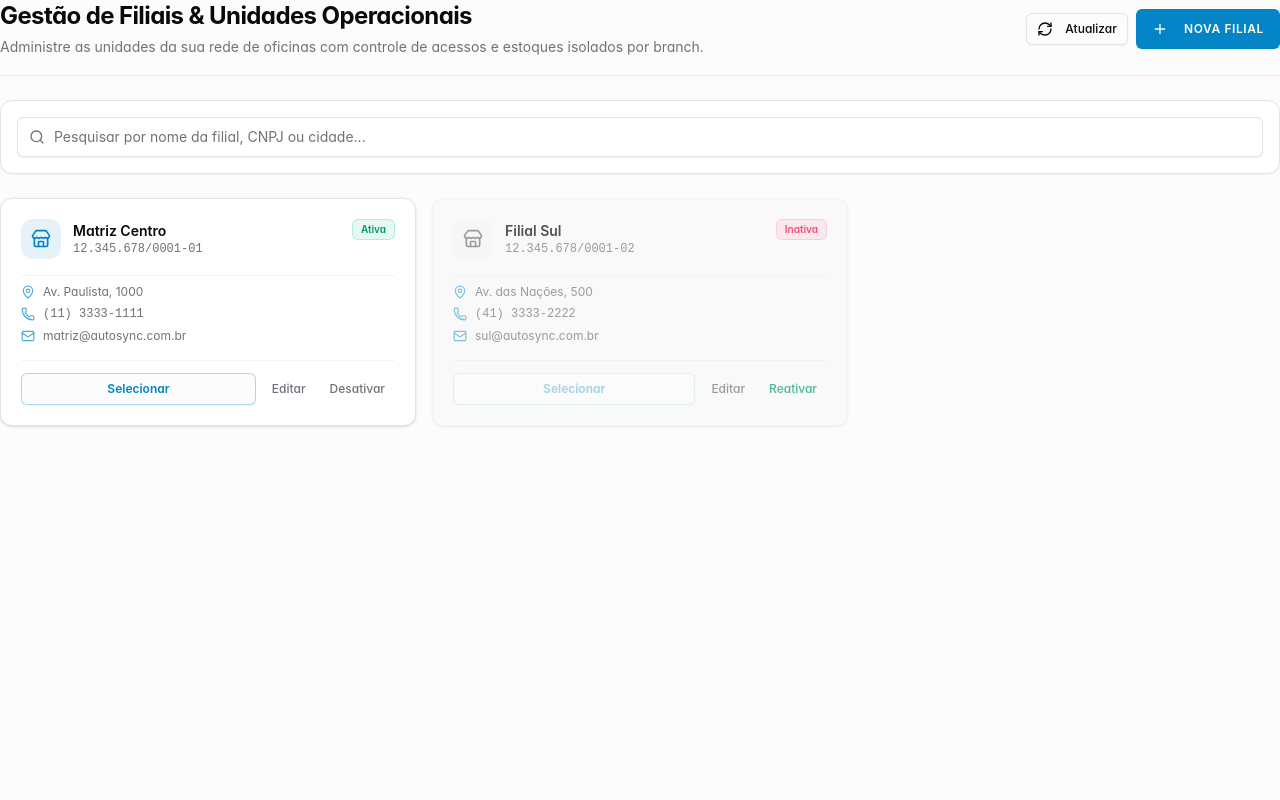
Branches Module (Integrated Management) › 4. should open edit modal with pre-filled fields
Expected: the heading "Matriz Centro" is shown, [73,221,166,241]
Click the button "Editar" below "matriz@autosync.com.br" at (289, 389), box [262,373,316,405]
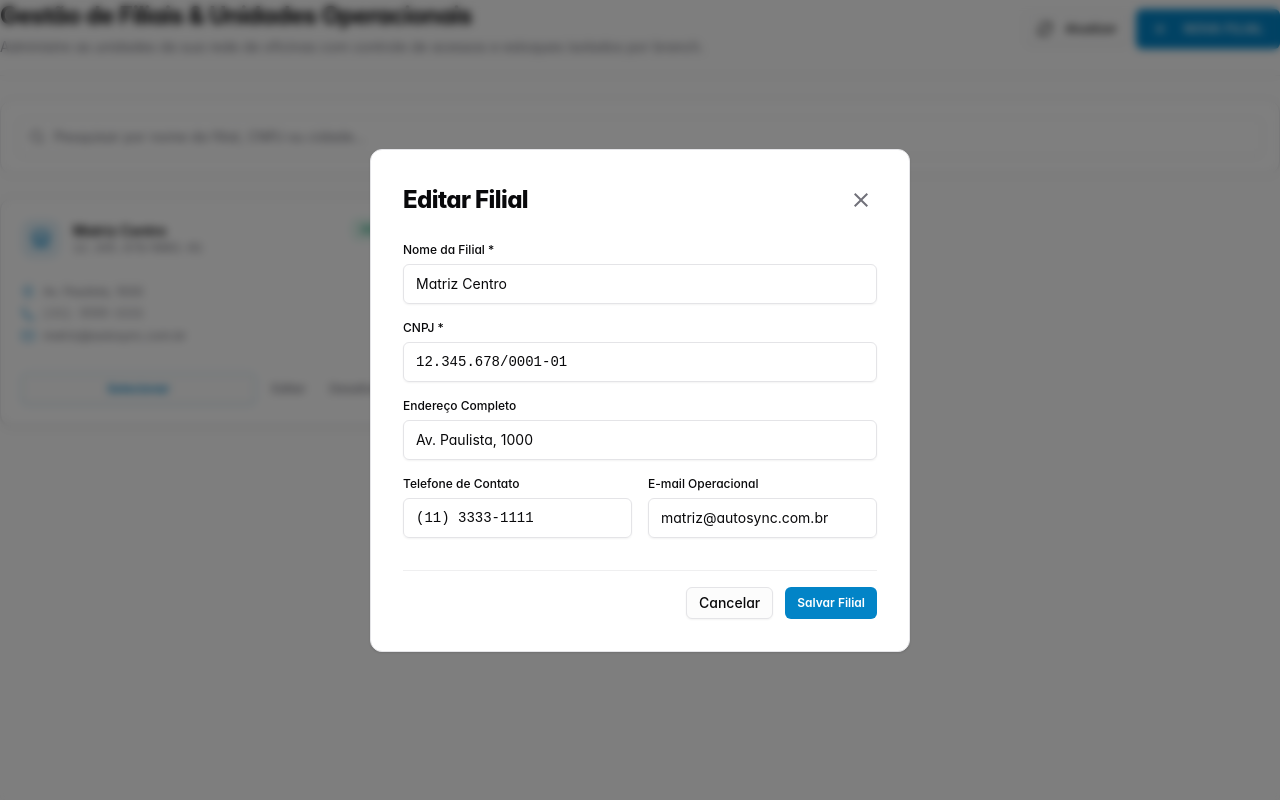
Now the field showing "Matriz Centro" is shown, box [403,264,877,304]
Now the field showing "12.345.678/0001-01" is shown, box [403,342,877,382]
